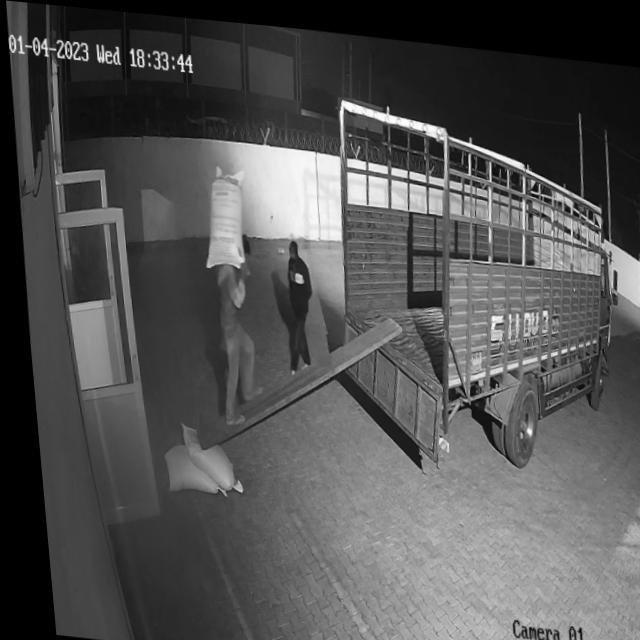sack: (193, 161, 247, 271), (170, 416, 237, 489), (152, 438, 217, 495)
